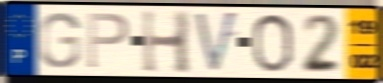2: (300, 12, 343, 74)
G: (38, 10, 83, 70)
H: (140, 8, 194, 75)
O: (251, 12, 296, 74)
P: (85, 11, 131, 71)
V: (192, 9, 240, 76)
